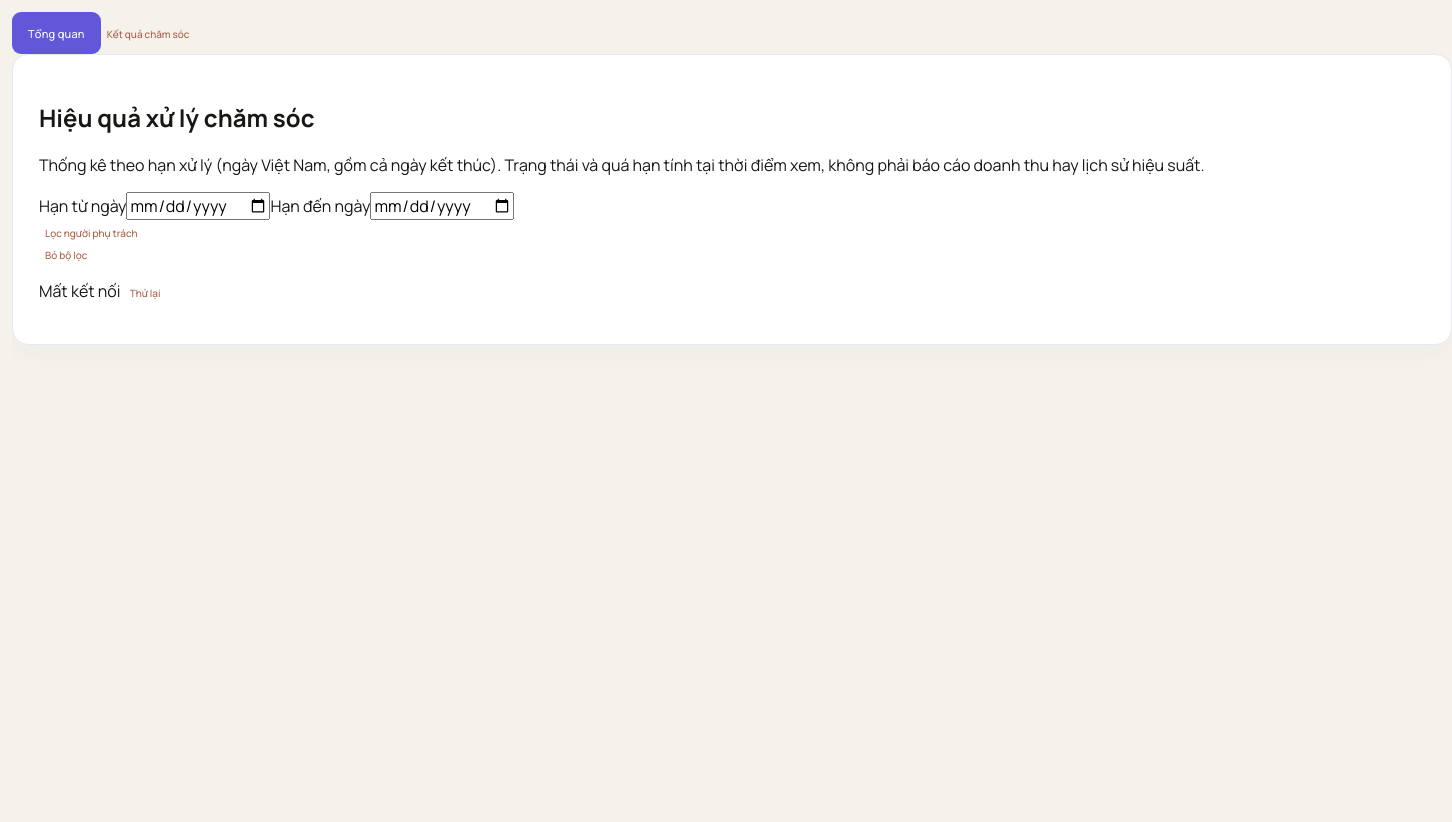
Scenario: shows error and retries without inventing counts
The image size is (1452, 822).
Check: the text "Mất kết nối Thử lại" is shown, box top-left (39, 280), bottom-right (166, 302)
Click the button "Thử lại". click: (145, 293)
box: top-left (124, 285), bottom-right (166, 301)
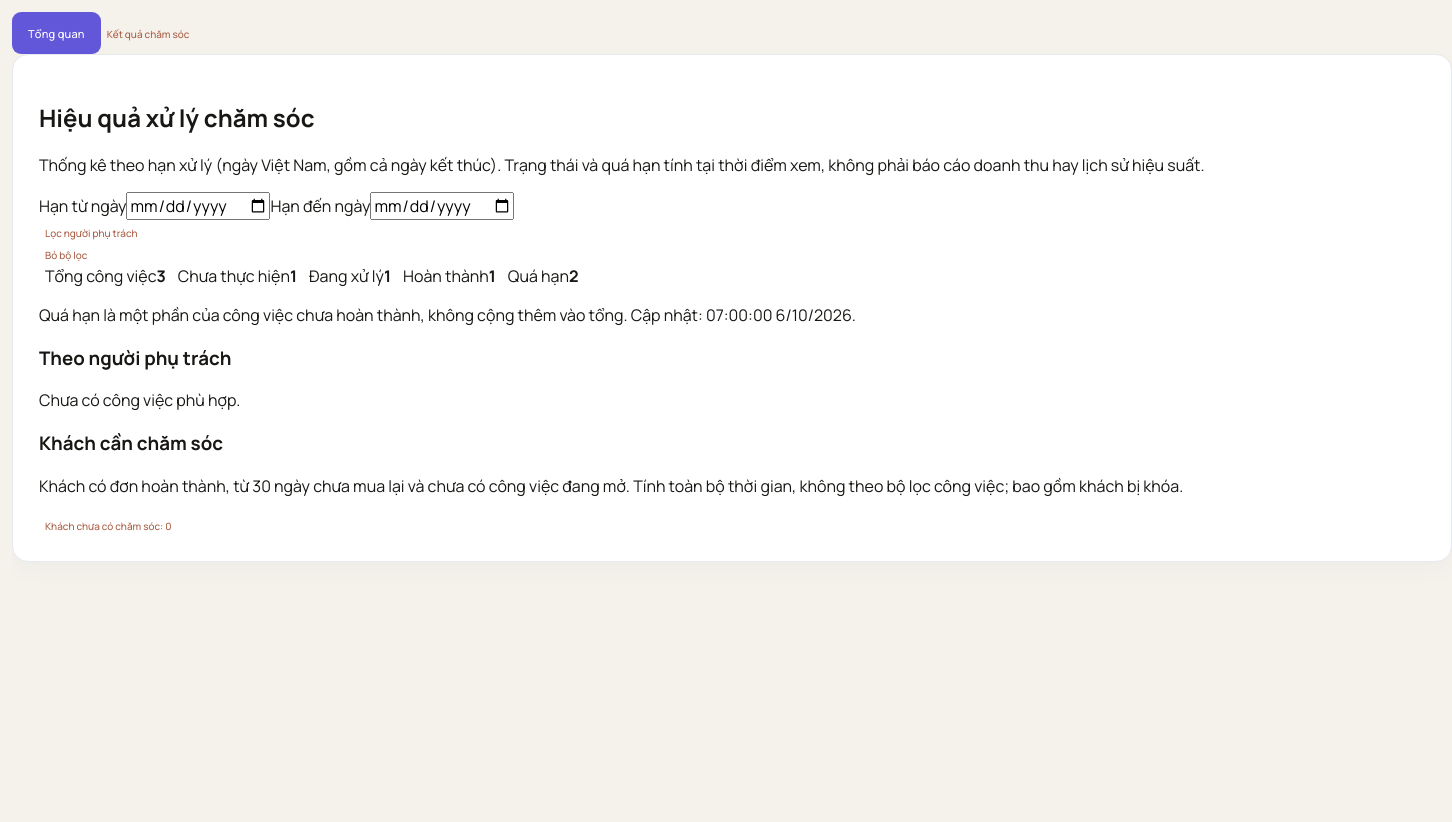
Check: the text "Chưa có công việc phù hợp." is shown, box top-left (39, 389), bottom-right (240, 411)
